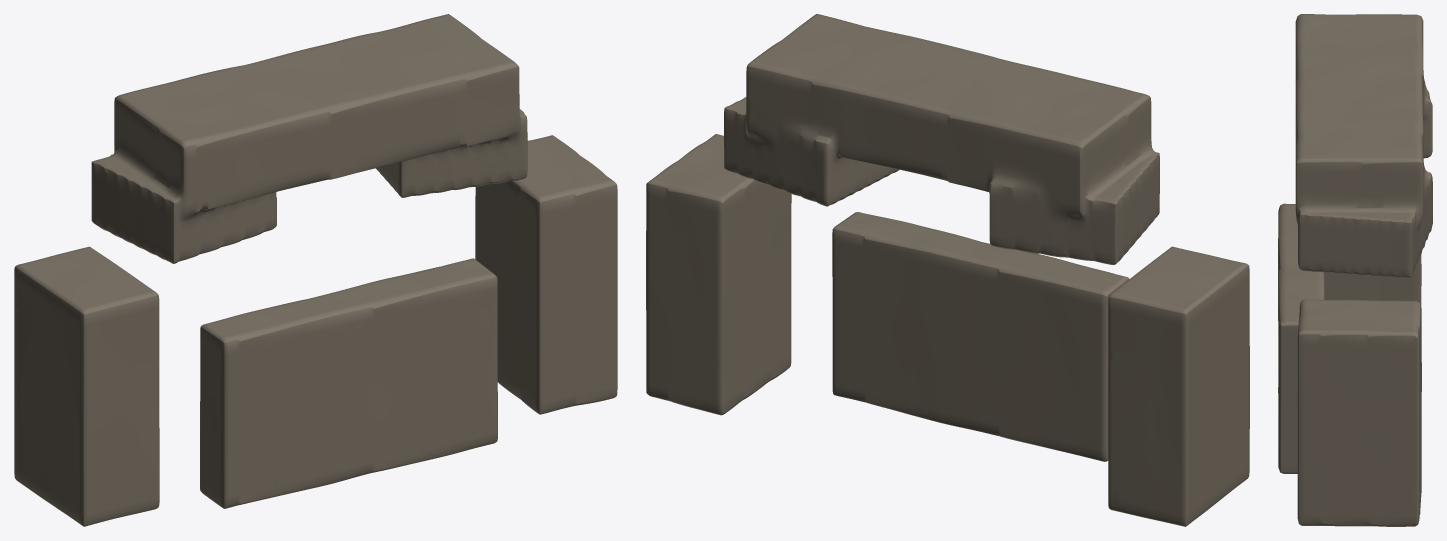
Rendered from door_arch_dungeon.glb.
3 views of the same model, side by side, from view 1: azimuth 30°, elevation 25°; view 2: azimuth 150°, elevation 25°; view 3: azimuth 270°, elevation 25° (orthographic). The views are drawn at different scales.
Parts seen in each view (by area): view 1: door_arch_dungeon; view 2: door_arch_dungeon; view 3: door_arch_dungeon.
Part boxes in pixels (x1,y1,x2,y2): door_arch_dungeon: (14,14,617,526); door_arch_dungeon: (646,14,1249,526); door_arch_dungeon: (1278,14,1432,526).
Bounding box in the file's own units: 1.93 × 1.25 × 0.5338.
